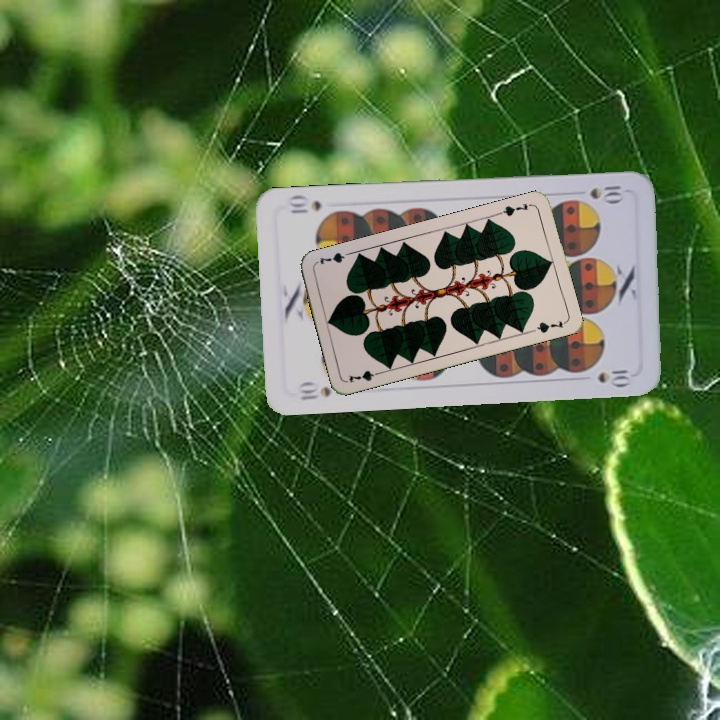G7: (344, 366, 385, 385), (495, 199, 531, 219)
S10: (294, 379, 334, 403), (585, 182, 624, 204)
